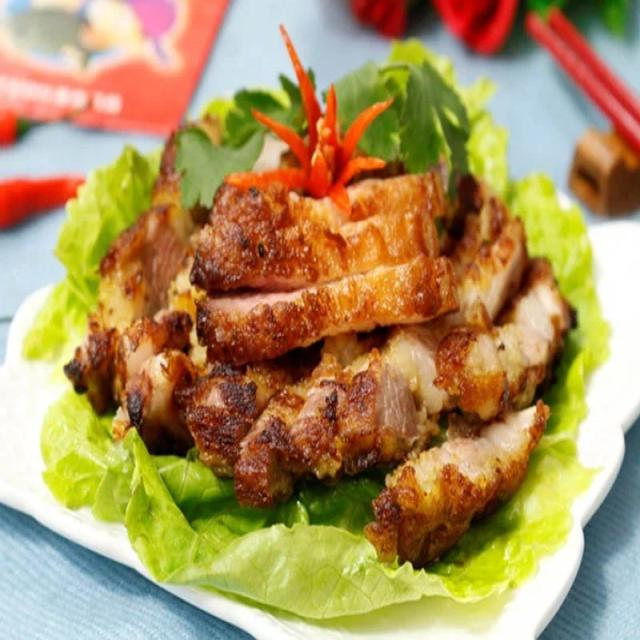thit chien: (66, 171, 570, 563)
